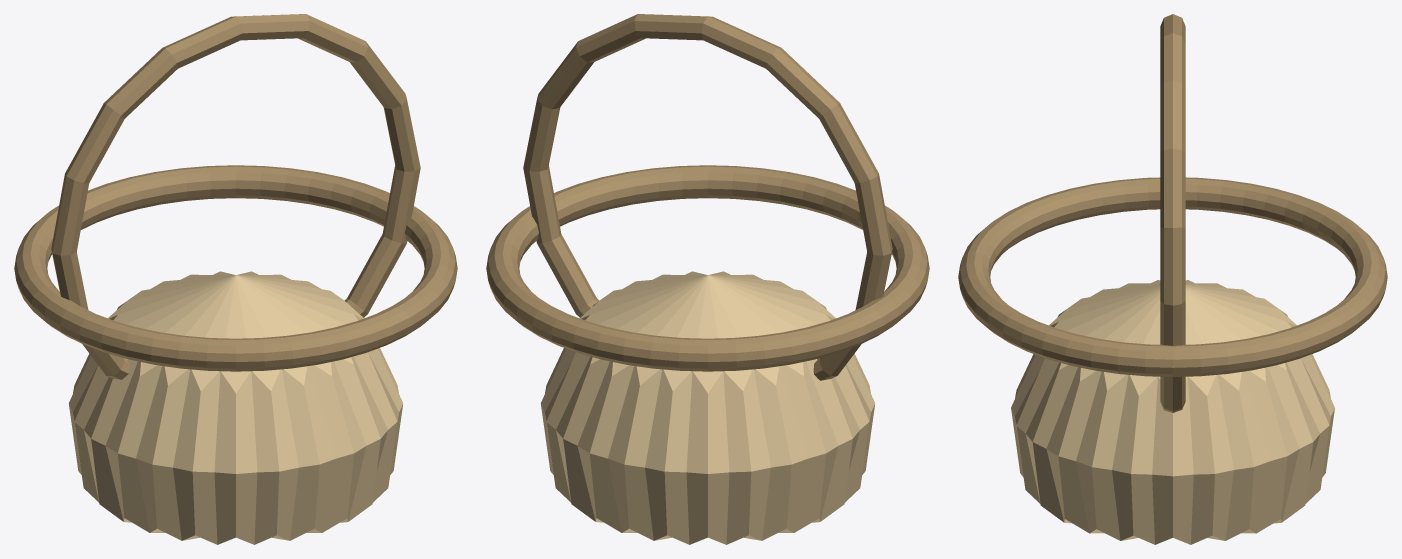
The model's file is basket.glb.
3 views of the same model, side by side, from view 1: azimuth 30°, elevation 25°; view 2: azimuth 150°, elevation 25°; view 3: azimuth 270°, elevation 25° (orthographic). The views are drawn at different scales.
Parts seen in each view (by area): view 1: basket; view 2: basket; view 3: basket.
Part boxes in pixels (x1,y1,x2,y2): basket: [14, 14, 457, 544]; basket: [486, 14, 929, 544]; basket: [958, 14, 1387, 544].
Size of the model in its own units: 0.67 by 0.8588 by 0.67.
